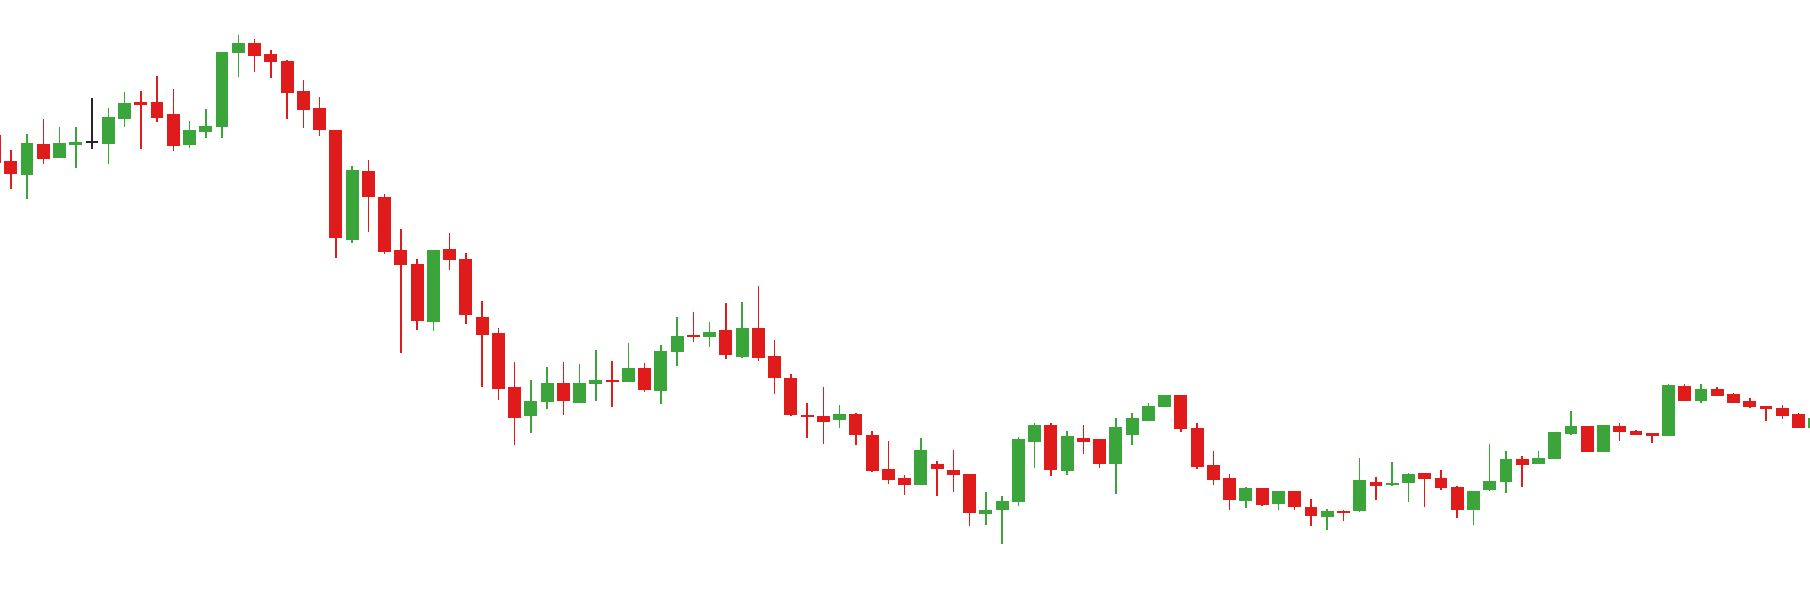sell: (147, 37, 294, 128)
